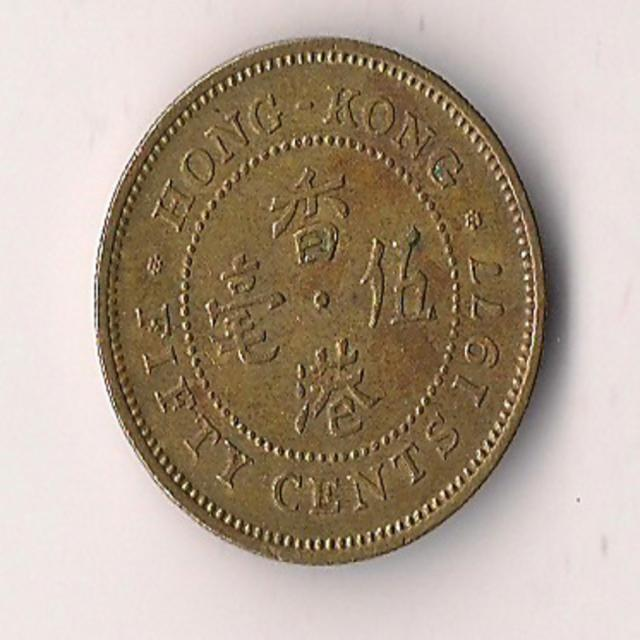Coin: (89, 32, 546, 570)
